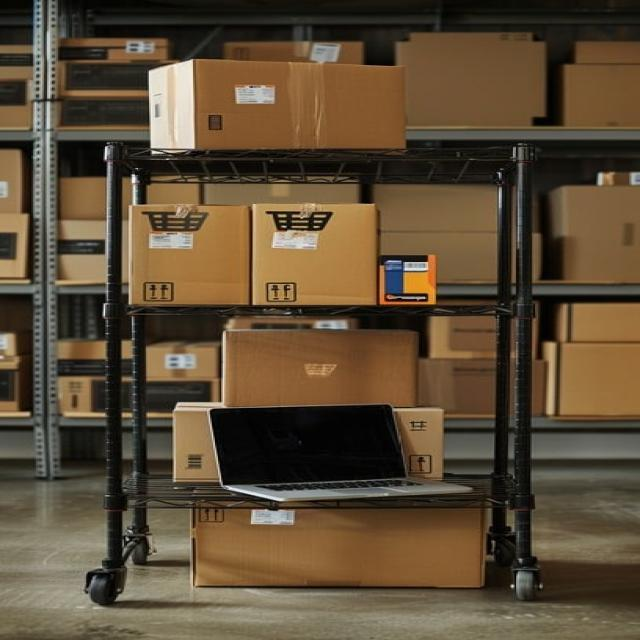box: (136, 55, 444, 170), (162, 404, 500, 494), (187, 500, 500, 594), (224, 322, 449, 408), (125, 199, 262, 311), (250, 205, 380, 313)
